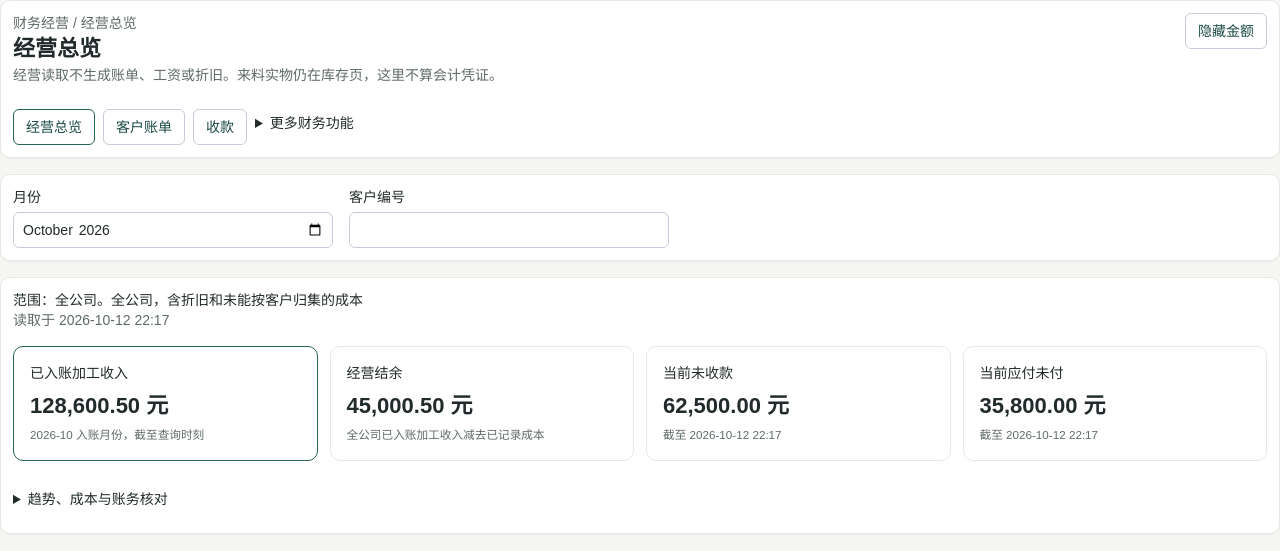
Test: FinanceWorkspace › 隐藏金额时卡片、图表、明细和无障碍文本都不带数字
The image size is (1280, 551).
Click the button with aria-label "隐藏金额" at (1226, 31), box 1185,13 -> 1267,49
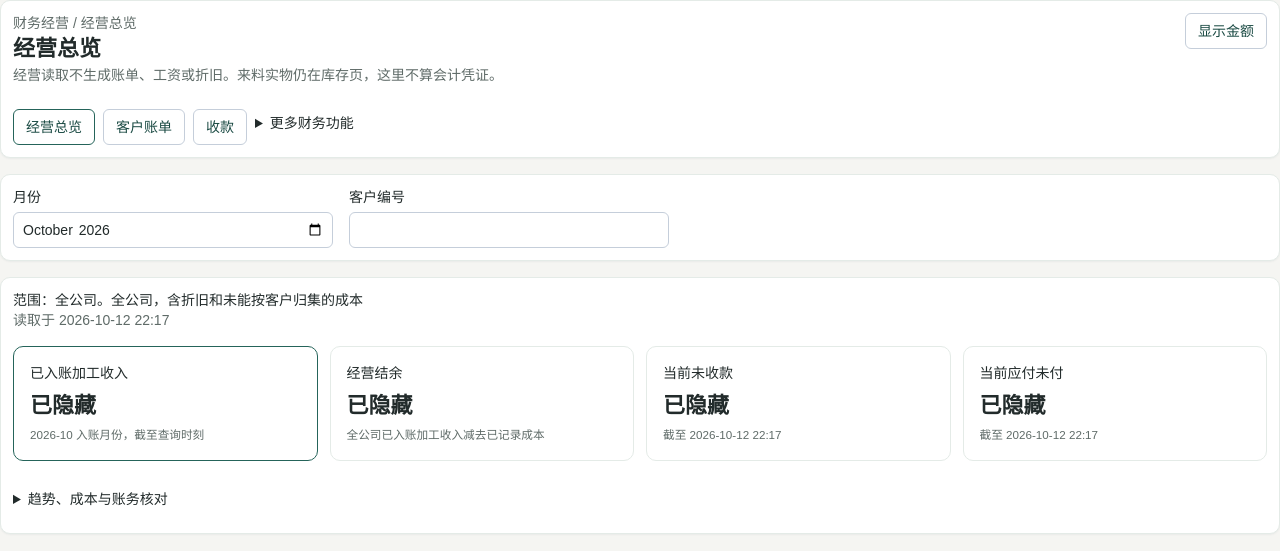
Expected: the text "128,600.50" is gone
Expected: the text "45,000.50" is gone
Expected: the text "62,500.00" is gone
